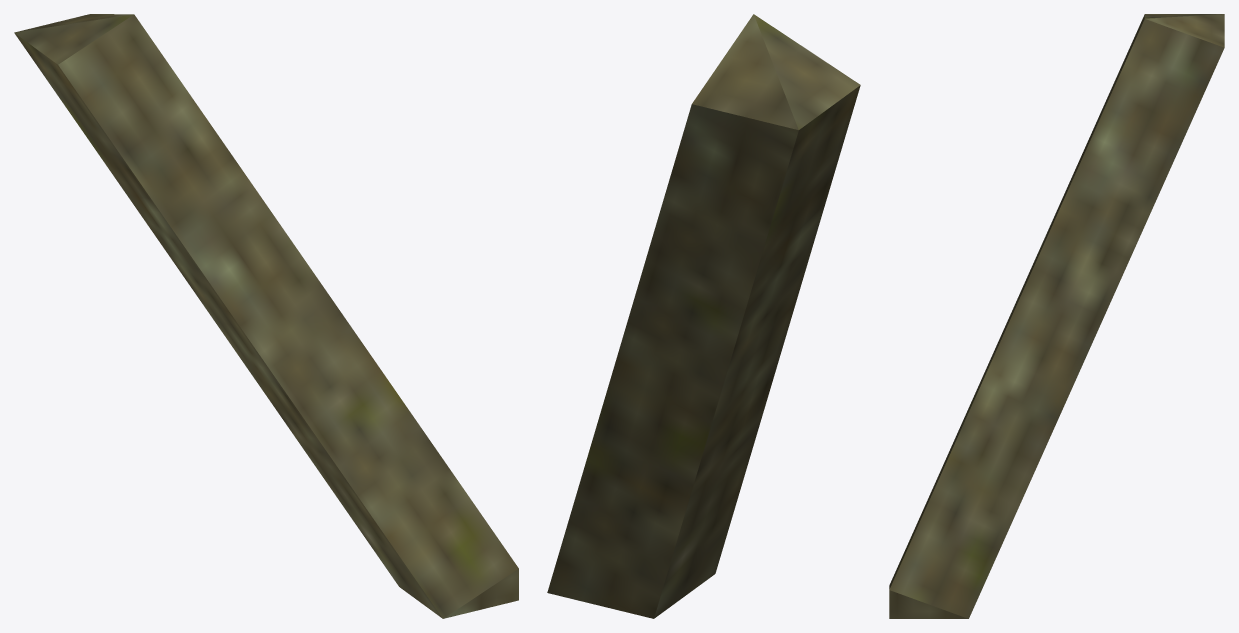
Rendered from poplar_thin_branch_22.5_diagonal.obj.
The picture shows the model from 3 angles, left to right: view 1: azimuth 30°, elevation 25°; view 2: azimuth 150°, elevation 25°; view 3: azimuth 270°, elevation 25°; orthographic projection. The views are drawn at different scales.
Visible parts, largest first — view 1: cube_selection; view 2: cube_selection; view 3: cube_selection.
Part boxes in pixels (x1,y1,x2,y2): cube_selection: (14, 14, 518, 618); cube_selection: (547, 14, 860, 618); cube_selection: (889, 14, 1224, 618).
Bounding box in the file's own units: 1.31 × 2.12 × 1.31.
